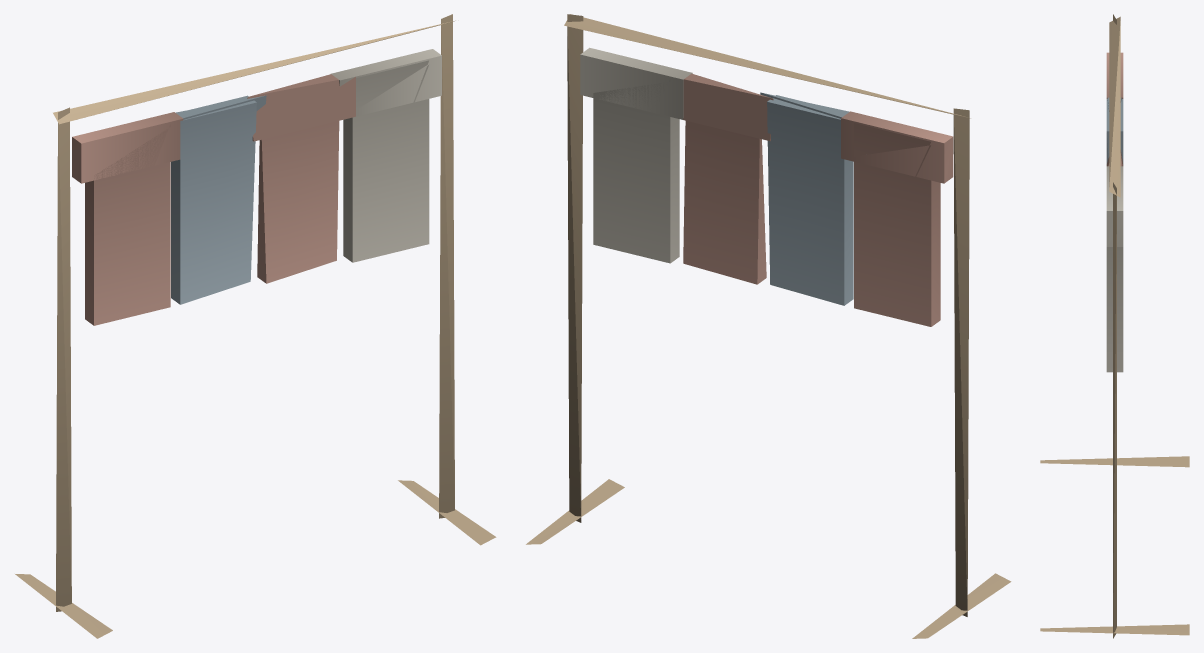
Rendered from furn_hanger_rack__oak_low.glb.
3 renders of one model, left to right at view 1: azimuth 30°, elevation 25°; view 2: azimuth 150°, elevation 25°; view 3: azimuth 270°, elevation 25°, orthographic. The views are drawn at different scales.
Size of the model in its own units: 1.25 by 1.5 by 0.45.
